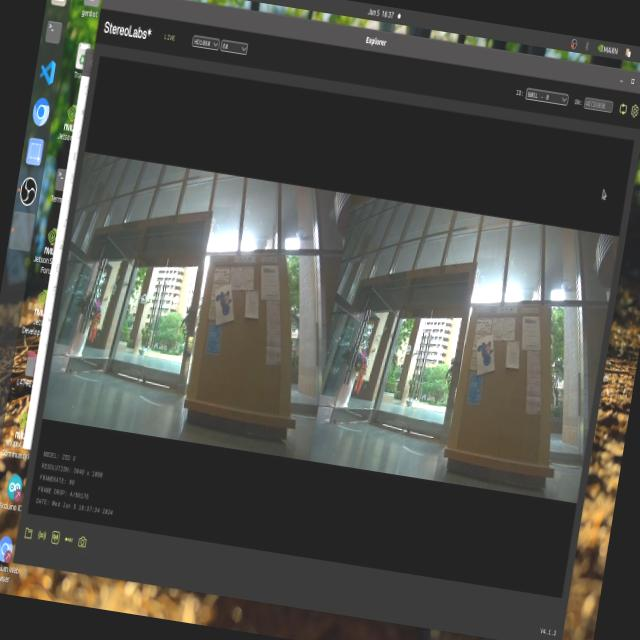blue: (210, 284, 239, 324), (472, 339, 501, 370)
